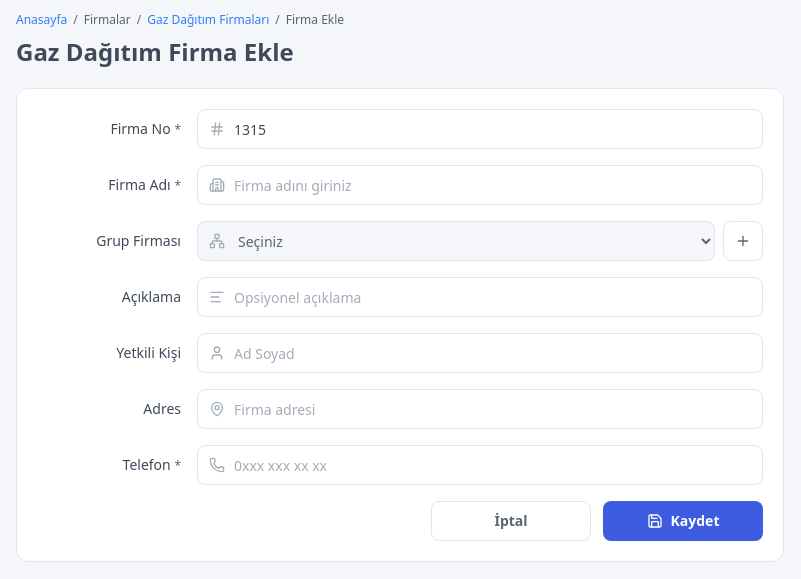
Test: girdi süzme › telefona harf girilemez
Expected: the field labelled "Firma No *" is shown, [197,109,763,149]
In the field labelled "Telefon *": x=480, y=465 [197,445,763,485], type "0abc5551234567"
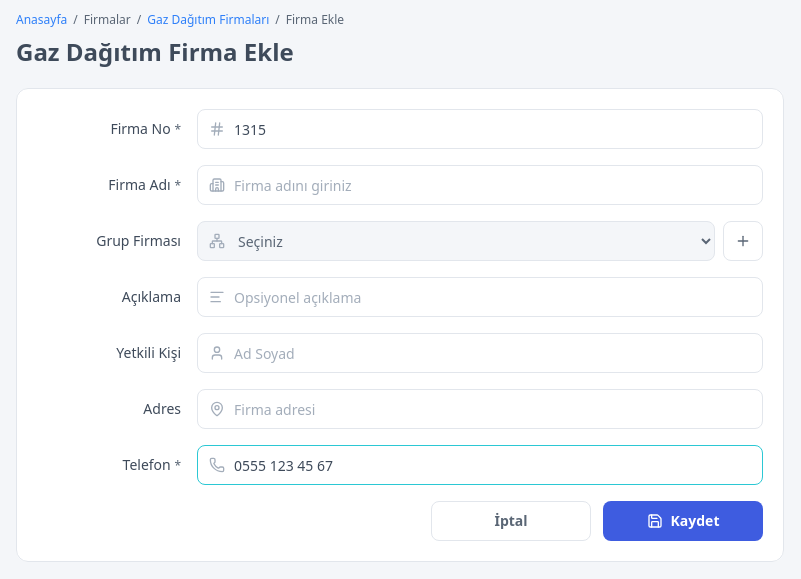
Result: the field labelled "Telefon *" holds "0555 123 45 67" at [197,445,763,485]
